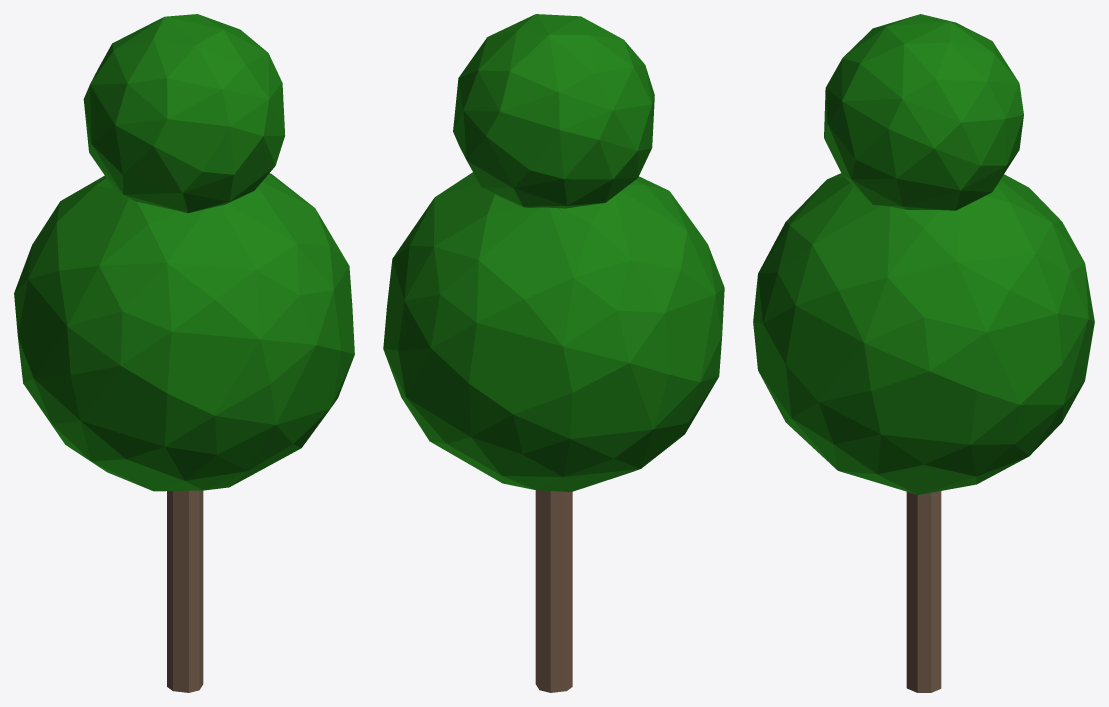
File: Tree_Bush.fbx
The picture shows the model from 3 angles, left to right: view 1: azimuth 30°, elevation 25°; view 2: azimuth 150°, elevation 25°; view 3: azimuth 270°, elevation 25°; orthographic projection.
Parts seen in each view (by area): view 1: Icosphere.002; view 2: Icosphere.002; view 3: Icosphere.002.
Part boxes in pixels (x1,y1,x2,y2): Icosphere.002: (14,14,354,692); Icosphere.002: (383,14,724,692); Icosphere.002: (753,14,1094,692).
Bounding box in the file's own units: 334 × 711 × 333.
